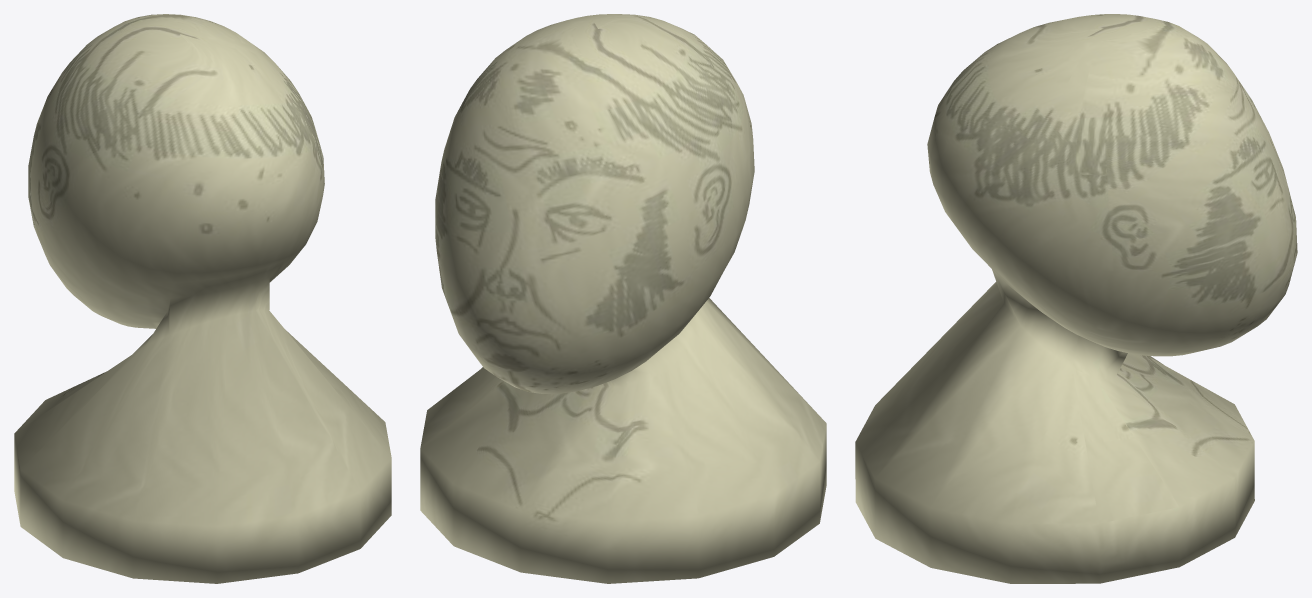
The model's file is bust_nice_3.FBX.
3 renders of one model, left to right at view 1: azimuth 30°, elevation 25°; view 2: azimuth 150°, elevation 25°; view 3: azimuth 270°, elevation 25°, orthographic. The views are drawn at different scales.
Parts seen in each view (by area): view 1: bust_nice_3; view 2: bust_nice_3; view 3: bust_nice_3.
Boxes of the visible parts, x1,y1,x2,y2 form: bust_nice_3: [14, 14, 391, 583]; bust_nice_3: [420, 14, 826, 583]; bust_nice_3: [855, 14, 1297, 583].
Bounding box in the file's own units: 14.89 × 16.9 × 20.01.
